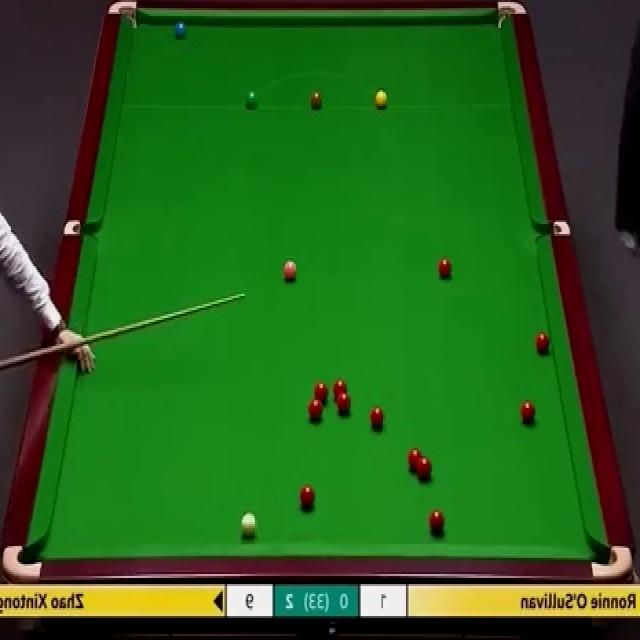blue-ball: (172, 18, 188, 43)
brown-ball: (309, 91, 323, 111)
green-ball: (244, 90, 258, 112)
pink-ball: (282, 258, 298, 284)
red-ball: (520, 397, 538, 427), (429, 509, 445, 536), (299, 485, 315, 512), (534, 332, 551, 357), (368, 408, 384, 432), (336, 393, 352, 416), (418, 456, 432, 482), (438, 255, 453, 279), (332, 379, 349, 400), (308, 398, 323, 420), (313, 382, 329, 402), (408, 448, 421, 472)
white-ball: (239, 509, 259, 537)
yellow-ball: (374, 90, 388, 110)
